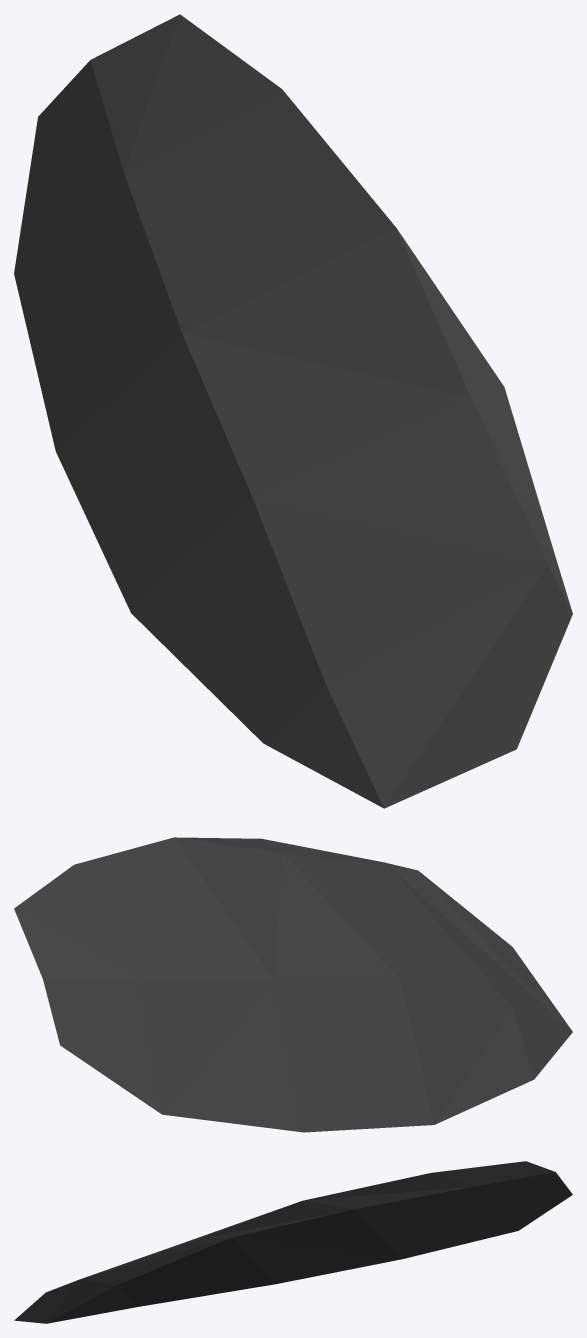
The model's file is Humerus_tuberosity_teres_major.glb.
The picture shows the model from 3 angles, top to bottom: view 1: azimuth 30°, elevation 25°; view 2: azimuth 150°, elevation 25°; view 3: azimuth 270°, elevation 25°; orthographic projection. The views are drawn at different scales.
Visible parts, largest first — view 1: Humerus_tuberosity_teres_major; view 2: Humerus_tuberosity_teres_major; view 3: Humerus_tuberosity_teres_major.
Part boxes in pixels (bbox=[...]): Humerus_tuberosity_teres_major: bbox=[14, 14, 572, 808]; Humerus_tuberosity_teres_major: bbox=[14, 837, 572, 1132]; Humerus_tuberosity_teres_major: bbox=[14, 1161, 572, 1323].
Bounding box in the file's own units: 0.0387 × 0.0522 × 0.1172.
Materials: 1 (1 with a texture image).
